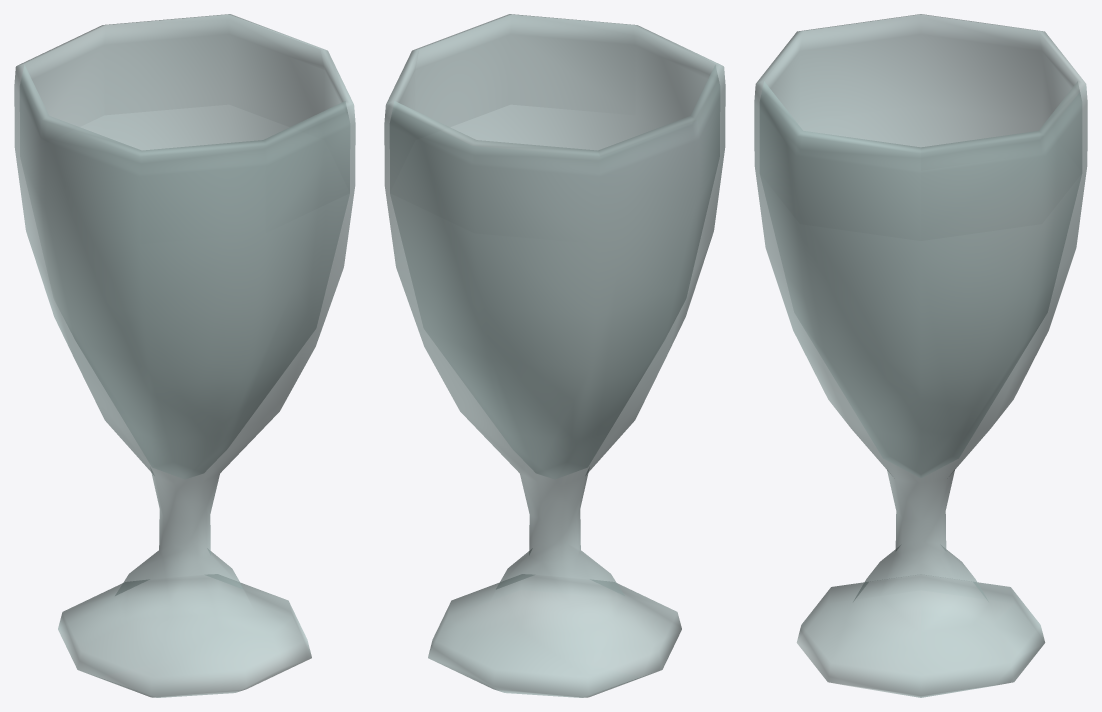
The model's file is iced_coffee_glass.fbx.
3 views of the same model, side by side, from view 1: azimuth 30°, elevation 25°; view 2: azimuth 150°, elevation 25°; view 3: azimuth 270°, elevation 25° (orthographic).
Visible parts, largest first — view 1: Iced_Coffee_Glass; view 2: Iced_Coffee_Glass; view 3: Iced_Coffee_Glass.
Boxes of the visible parts, <box> form: Iced_Coffee_Glass: <box>14,14,355,697</box>; Iced_Coffee_Glass: <box>384,14,725,697</box>; Iced_Coffee_Glass: <box>754,14,1087,697</box>.
Bounding box in the file's own units: 12.92 × 24.55 × 12.92.
